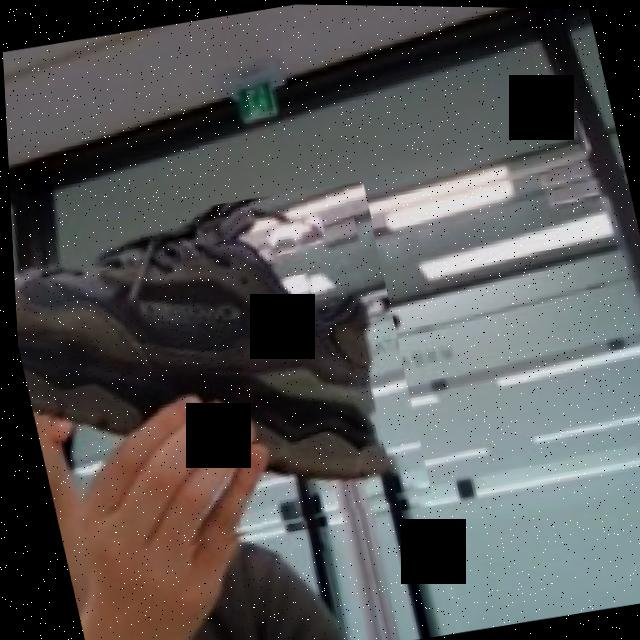shoe: (7, 175, 435, 576)
